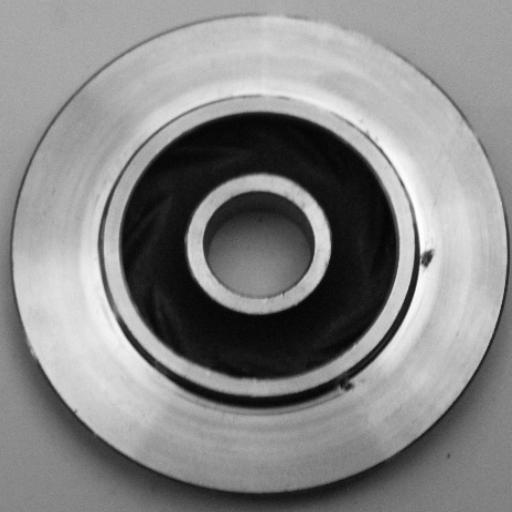crack: (327, 371, 364, 405), (418, 242, 442, 279)
unpolished_casting: (8, 13, 511, 496)
